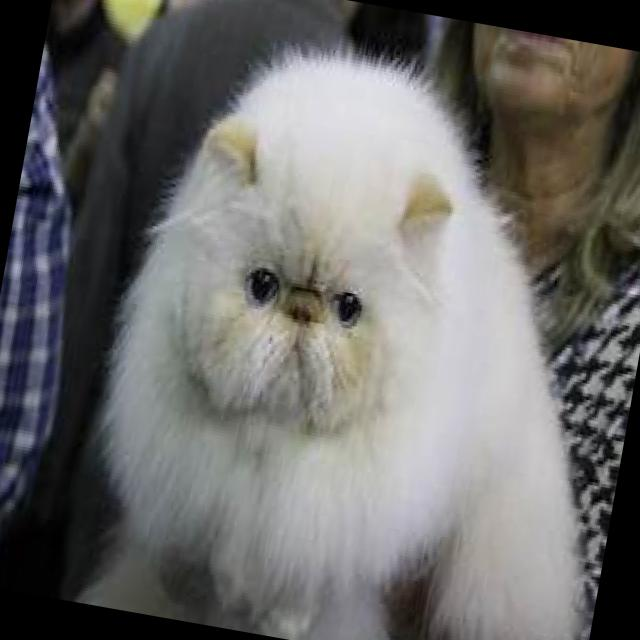cat: (83, 36, 591, 640)
